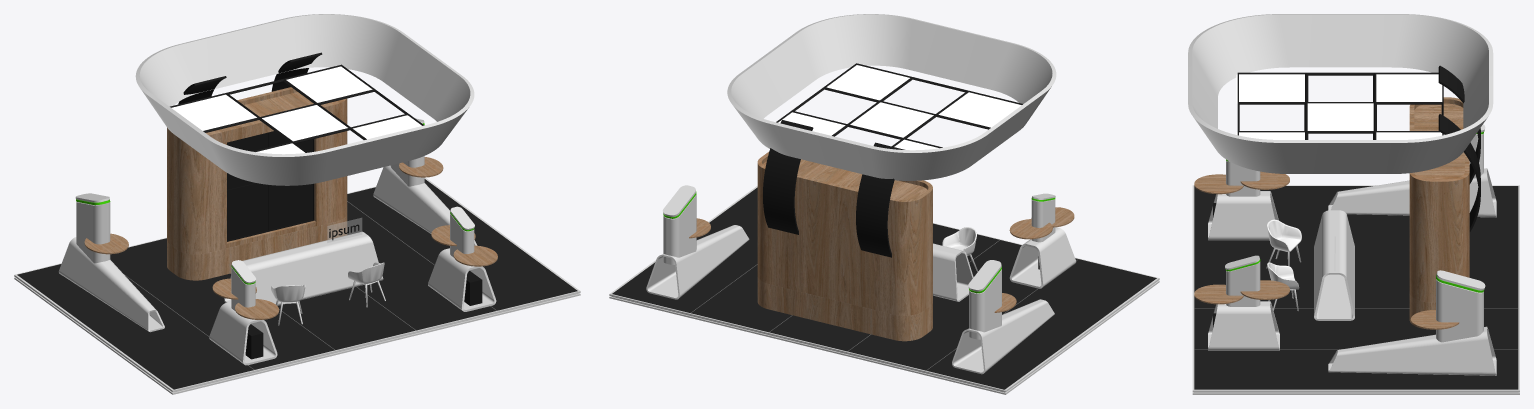
3 renders of one model, left to right at view 1: azimuth 30°, elevation 25°; view 2: azimuth 150°, elevation 25°; view 3: azimuth 270°, elevation 25°, orthographic. The views are drawn at different scales.
Parts seen in each view (by area): view 1: Plane_0, Plane.001_1, Cube_3, Cube.007_14, Cube.005_11, Cube.010_21, Cube.003_6, Cube.008_16, Plane.002_2, Cube.006_12, Plane.009_28, Plane.005_24 (+16 smaller); view 2: Plane_0, Plane.001_1, Cube_3, Cube.010_21, Cube.005_11, Cube.001_4, Cube.002_5, Cube.003_6, Cube.011_22, Cube.006_12, Plane.002_2, Cube.007_14 (+7 smaller); view 3: Plane_0, Plane.001_1, Cube_3, Cube.010_21, Cube.007_14, Cube.005_11, Cube.008_16, Cube.011_22, Cube.003_6, Plane.002_2, Plane.006_25, Plane.005_24 (+15 smaller).
Part boxes in pixels (x1,y1,x2,y2): Plane_0: [14, 177, 580, 394]; Plane.001_1: [135, 14, 474, 185]; Cube_3: [167, 87, 347, 280]; Cube.007_14: [224, 231, 383, 305]; Cube.005_11: [58, 237, 164, 332]; Cube.010_21: [373, 165, 477, 245]; Cube.003_6: [209, 301, 277, 365]; Cube.008_16: [428, 248, 496, 311]; Plane.002_2: [170, 64, 424, 152]; Cube.006_12: [75, 193, 110, 263]; Plane.009_28: [286, 66, 372, 102]; Plane.005_24: [262, 105, 347, 141]; Plane_0: [609, 186, 1159, 394]; Plane.001_1: [727, 14, 1056, 180]; Cube_3: [757, 152, 932, 341]; Cube.010_21: [646, 225, 749, 299]; Cube.005_11: [952, 299, 1054, 374]; Cube.001_4: [763, 120, 813, 234]; Cube.002_5: [856, 142, 904, 257]; Cube.003_6: [1009, 227, 1076, 288]; Cube.011_22: [662, 185, 696, 264]; Cube.006_12: [968, 260, 1001, 339]; Plane.002_2: [776, 63, 1022, 148]; Cube.007_14: [933, 243, 973, 301]; Plane_0: [1192, 185, 1519, 394]; Plane.001_1: [1188, 14, 1493, 173]; Cube_3: [1409, 97, 1469, 329]; Cube.010_21: [1328, 326, 1496, 375]; Cube.007_14: [1314, 210, 1354, 320]; Cube.005_11: [1328, 168, 1496, 217]; Cube.008_16: [1208, 301, 1279, 350]; Cube.011_22: [1436, 270, 1485, 342]; Cube.003_6: [1208, 191, 1278, 240]; Plane.002_2: [1237, 72, 1443, 139]; Plane.006_25: [1236, 74, 1304, 103]; Plane.005_24: [1307, 103, 1373, 130].
Bounding box in the file's own units: 6.35 × 3.1 × 4.33.
9 materials, 1 textured.
